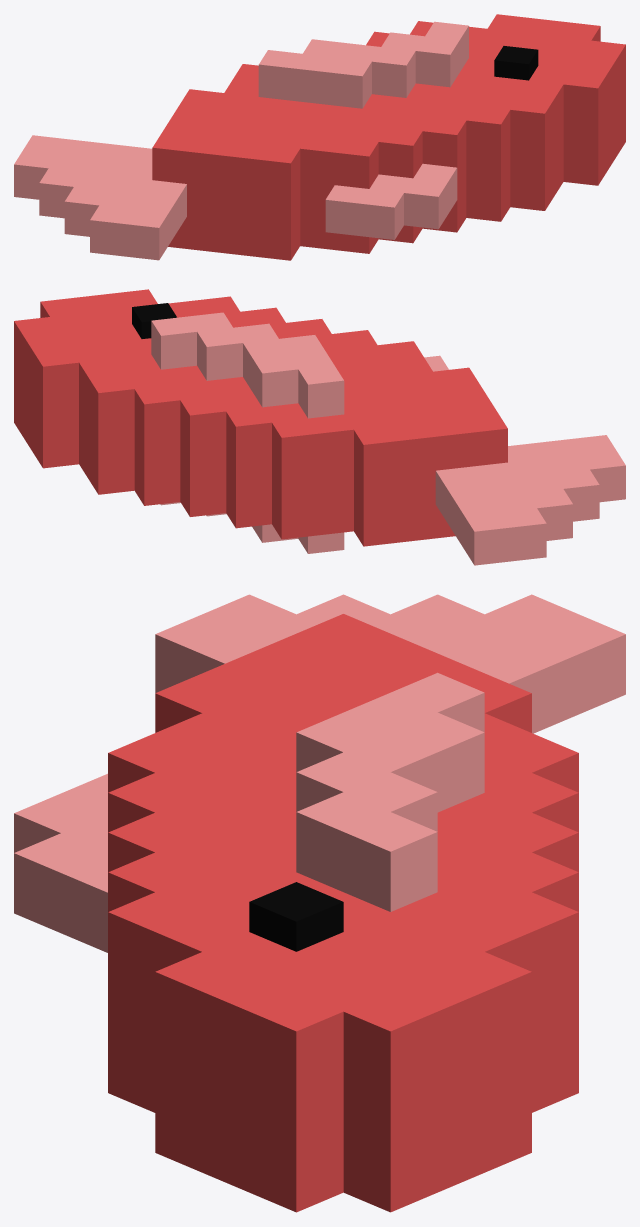
File: VoxelFish.glb
3 views of the same model, one above another, from view 1: azimuth 30°, elevation 25°; view 2: azimuth 150°, elevation 25°; view 3: azimuth 270°, elevation 25° (orthographic). The views are drawn at different scales.
Parts seen in each view (by area): view 1: VoxelFish; view 2: VoxelFish; view 3: VoxelFish.
Boxes of the visible parts, left/top/right/bottom form: VoxelFish: left=14, top=14, right=625, bottom=260; VoxelFish: left=14, top=289, right=625, bottom=565; VoxelFish: left=14, top=594, right=625, bottom=1212.
Bounding box in the file's own units: 0.7071 × 0.2 × 0.3677.
Materials: 1 (1 with a texture image).
